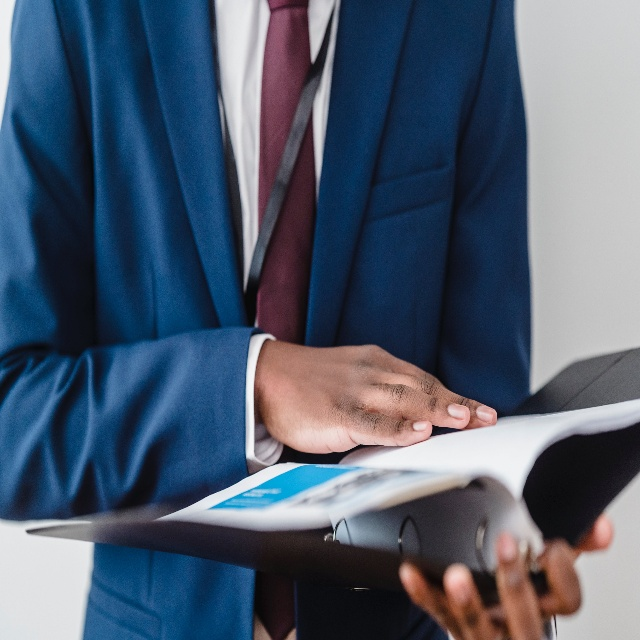Sin_guantes: (258, 339, 498, 454), (399, 515, 614, 640)
